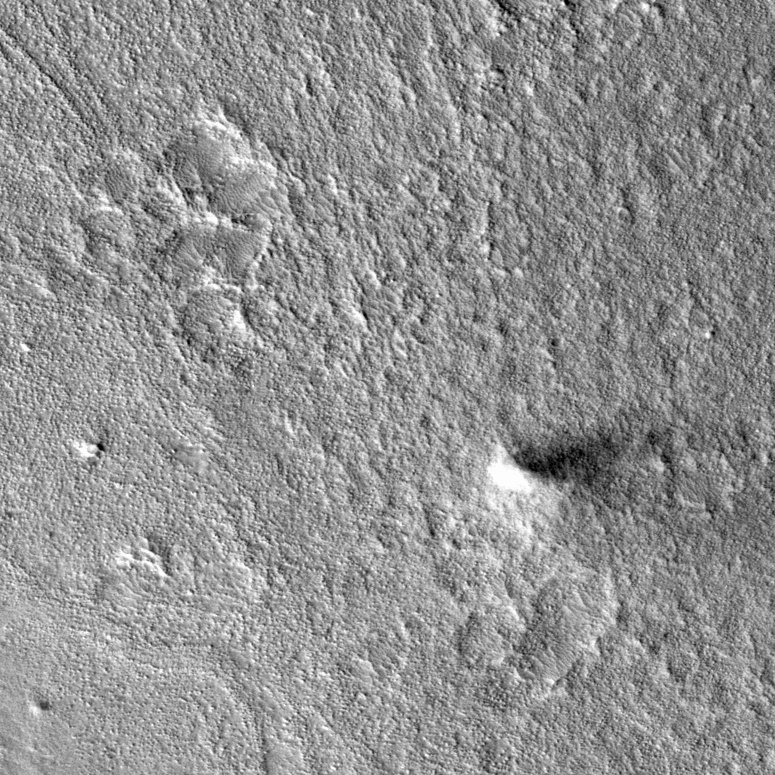dust_devil: (483, 418, 633, 500)
